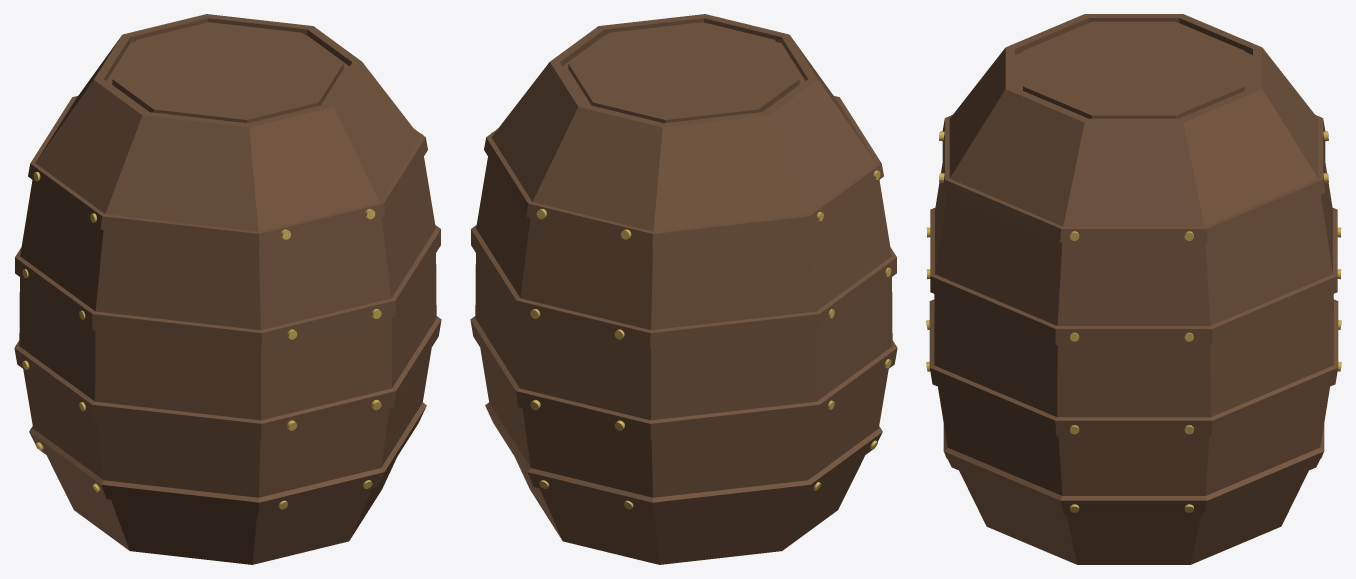
File: BARREL.fbx
3 renders of one model, left to right at view 1: azimuth 30°, elevation 25°; view 2: azimuth 150°, elevation 25°; view 3: azimuth 270°, elevation 25°, orthographic.
Parts seen in each view (by area): view 1: Cube; view 2: Cube; view 3: Cube.
Boxes of the visible parts, x1,y1,x2,y2 form: Cube: (14, 14, 441, 564); Cube: (470, 14, 897, 564); Cube: (929, 14, 1338, 564).
Size of the model in its own units: 130 by 151 by 131.
